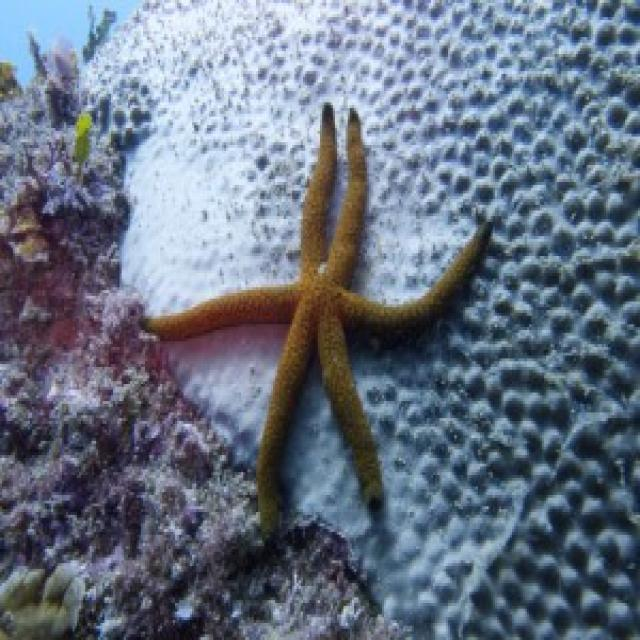Starfish: (109, 87, 504, 558)
